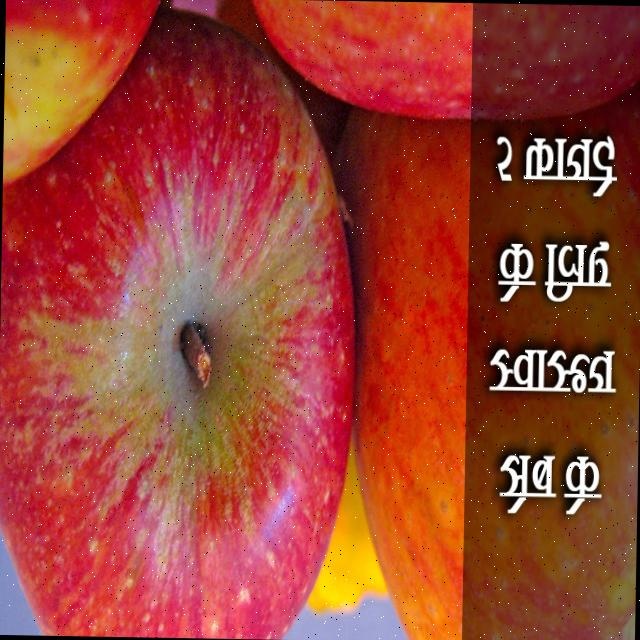Apel: (0, 3, 361, 640), (349, 118, 640, 640), (2, 0, 159, 189), (470, 4, 640, 123)
